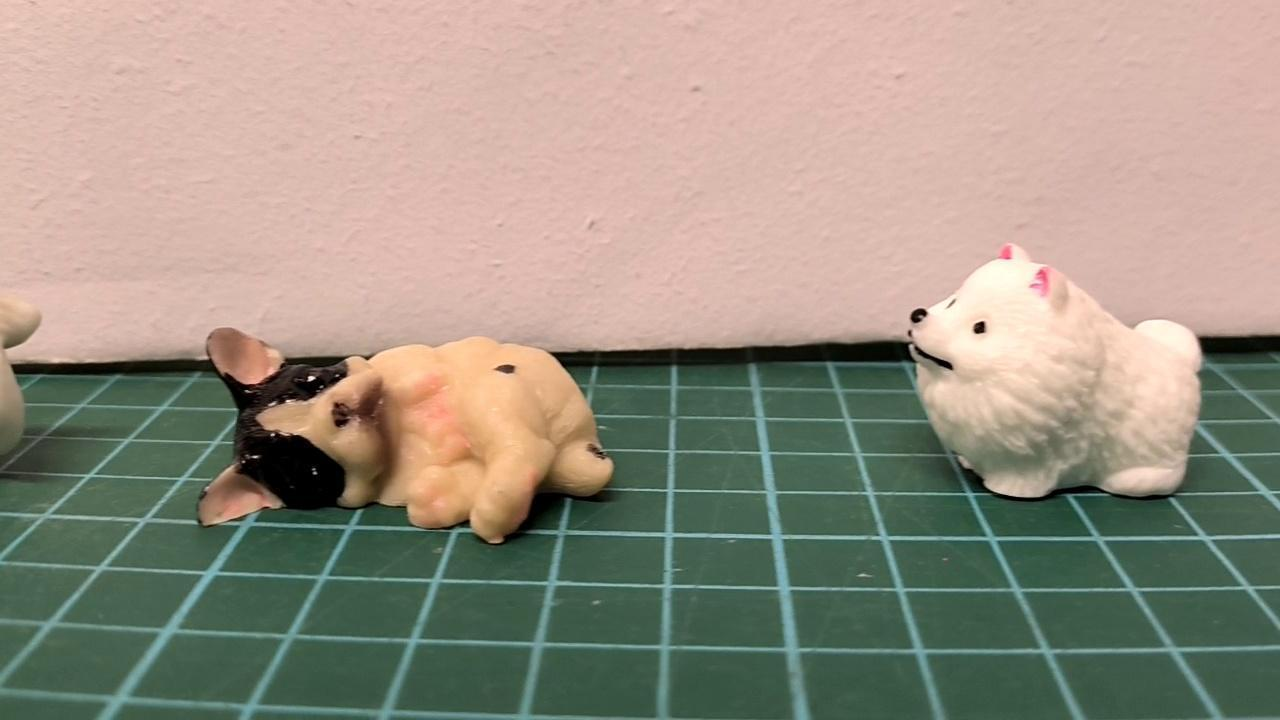pet: (193, 314, 617, 548), (904, 239, 1208, 503)
